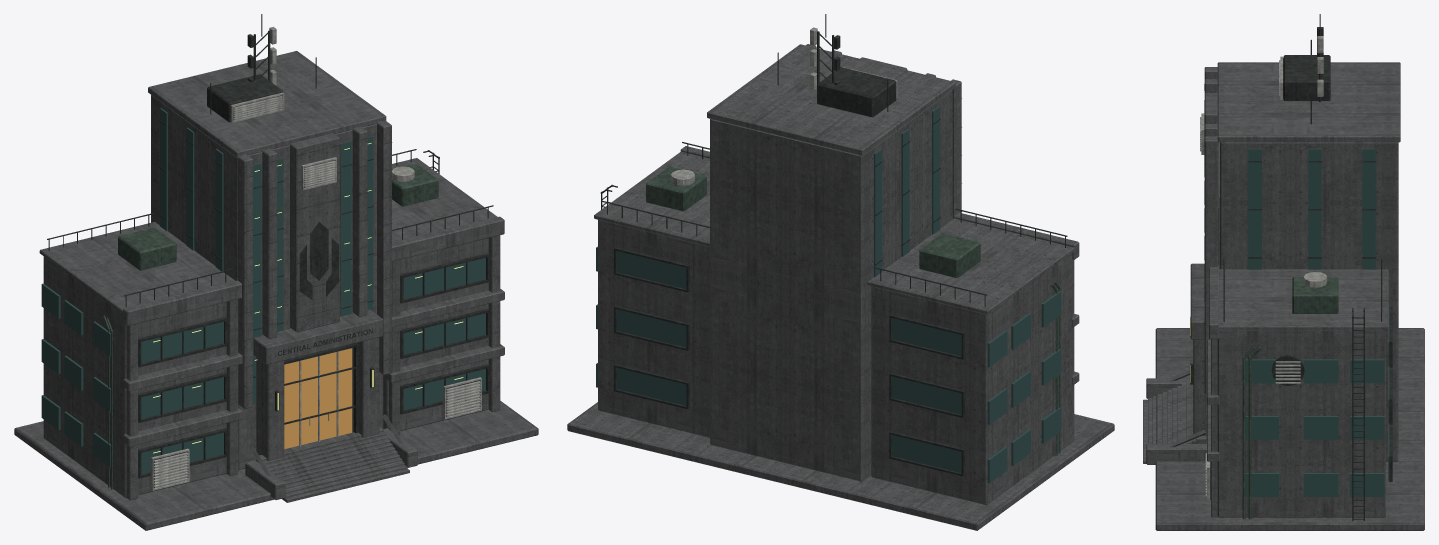
The model's file is central-administration.glb.
3 renders of one model, left to right at view 1: azimuth 30°, elevation 25°; view 2: azimuth 150°, elevation 25°; view 3: azimuth 270°, elevation 25°, orthographic. The views are drawn at different scales.
Parts seen in each view (by area): view 1: CentralAdministrationV1_Concrete, CentralAdministrationV1_TealGlass, CentralAdministrationV1_Gunmetal, CentralAdministrationV1_AgedAluminium, CentralAdministrationV1_InteriorAmber, CentralAdministrationV1_ServiceGreen; view 2: CentralAdministrationV1_Concrete, CentralAdministrationV1_TealGlass, CentralAdministrationV1_Gunmetal, CentralAdministrationV1_ServiceGreen, CentralAdministrationV1_AgedAluminium; view 3: CentralAdministrationV1_Concrete, CentralAdministrationV1_TealGlass, CentralAdministrationV1_Gunmetal, CentralAdministrationV1_ServiceGreen, CentralAdministrationV1_AgedAluminium.
Part boxes in pixels (left/top/right/bottom): CentralAdministrationV1_Concrete: left=14, top=51, right=538, bottom=530; CentralAdministrationV1_TealGlass: left=41, top=108, right=485, bottom=474; CentralAdministrationV1_Gunmetal: left=47, top=14, right=493, bottom=488; CentralAdministrationV1_AgedAluminium: left=151, top=26, right=481, bottom=490; CentralAdministrationV1_InteriorAmber: left=284, top=348, right=352, bottom=449; CentralAdministrationV1_ServiceGreen: left=103, top=163, right=438, bottom=489; CentralAdministrationV1_Concrete: left=567, top=44, right=1114, bottom=530; CentralAdministrationV1_TealGlass: left=596, top=106, right=1061, bottom=483; CentralAdministrationV1_Gunmetal: left=600, top=14, right=1067, bottom=476; CentralAdministrationV1_ServiceGreen: left=646, top=166, right=1061, bottom=455; CentralAdministrationV1_AgedAluminium: left=671, top=27, right=897, bottom=185; CentralAdministrationV1_Concrete: left=1143, top=62, right=1424, bottom=530; CentralAdministrationV1_TealGlass: left=1245, top=148, right=1389, bottom=496; CentralAdministrationV1_Gunmetal: left=1190, top=14, right=1392, bottom=521; CentralAdministrationV1_ServiceGreen: left=1242, top=277, right=1338, bottom=519; CentralAdministrationV1_AgedAluminium: left=1200, top=36, right=1327, bottom=500.
Size of the model in its own units: 13.26 by 13.2 by 8.04.
Materials: 7 (4 with a texture image).
